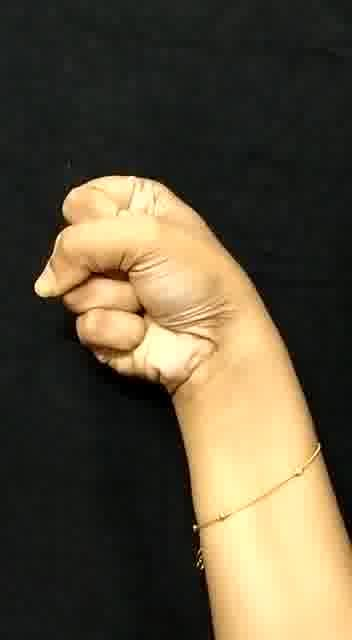mushti: (26, 164, 270, 398)
